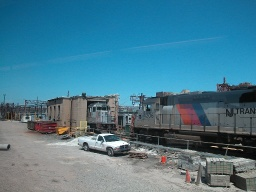car: (76, 131, 132, 160)
